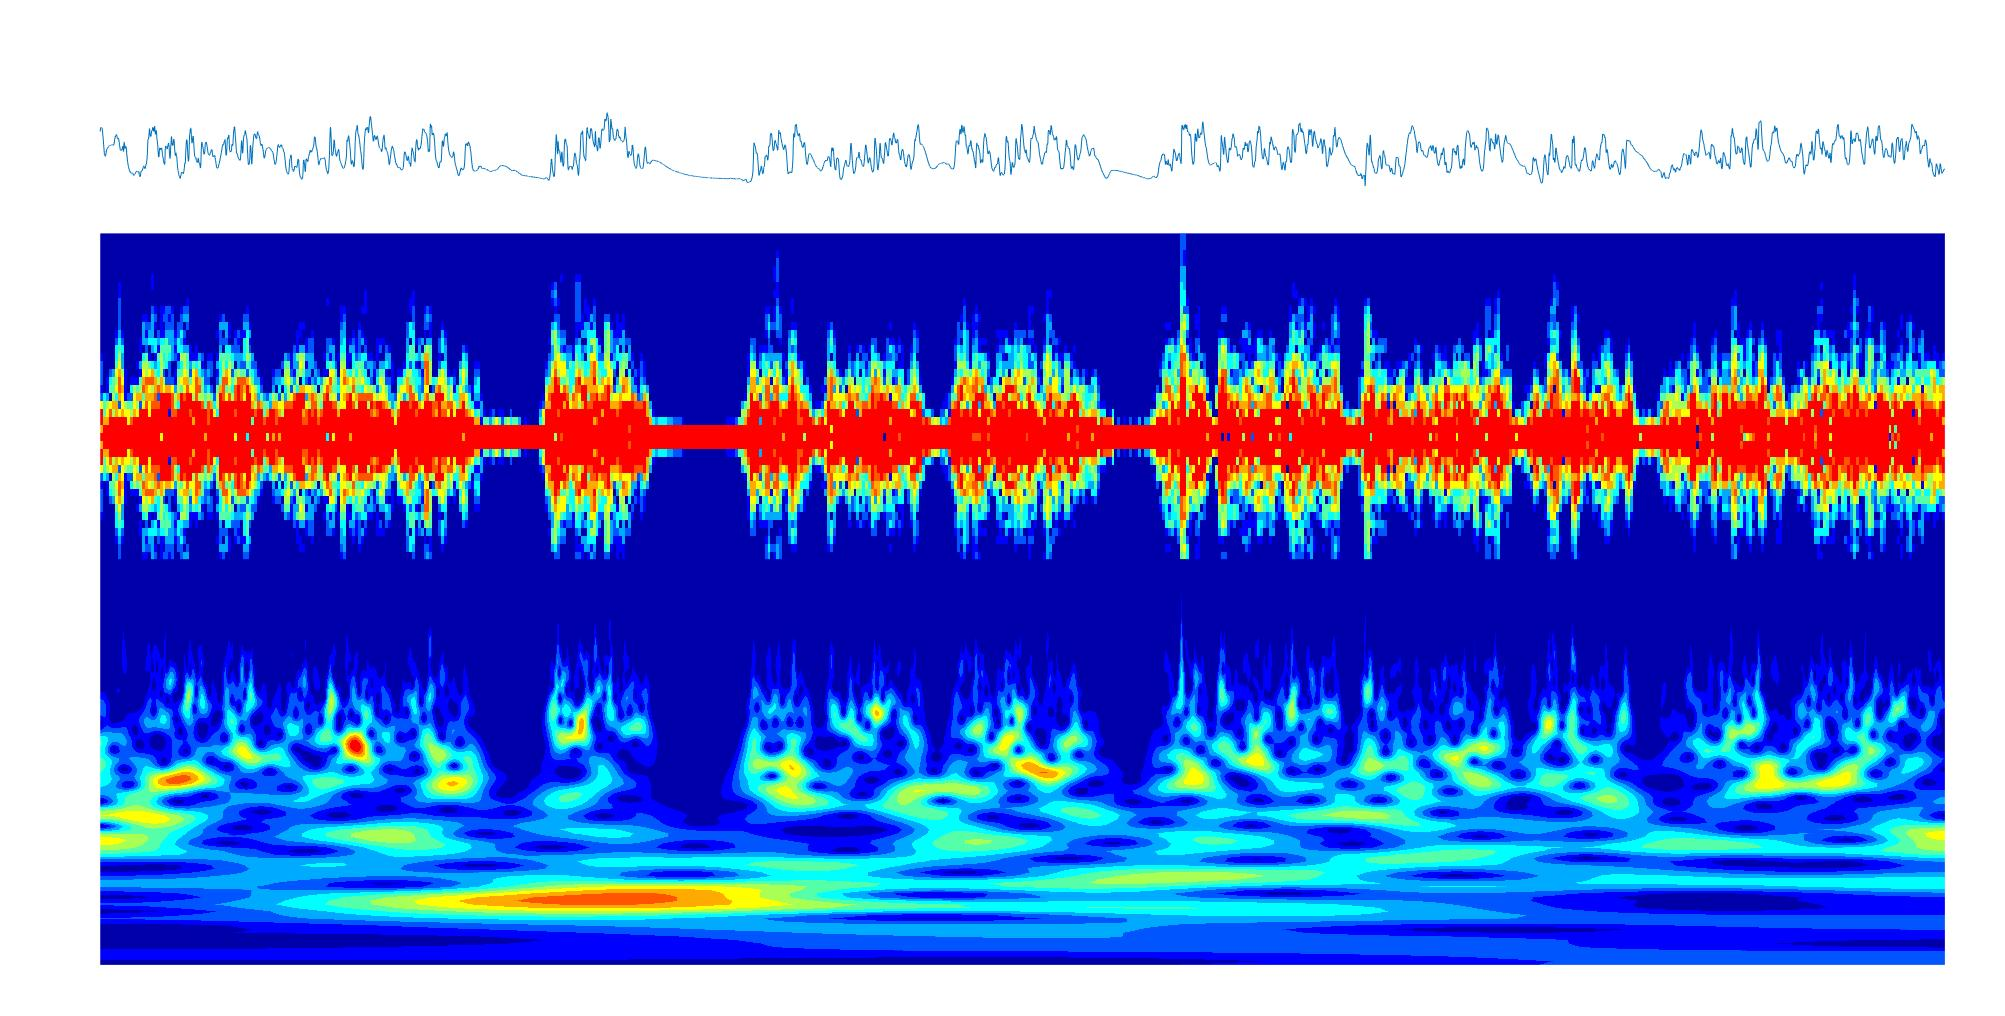TURBULENT: (102, 236, 482, 962), (1660, 235, 1944, 964), (1157, 237, 1338, 967), (741, 235, 918, 963), (1363, 233, 1504, 965), (952, 233, 1083, 963), (538, 232, 654, 963), (1530, 236, 1629, 965)
